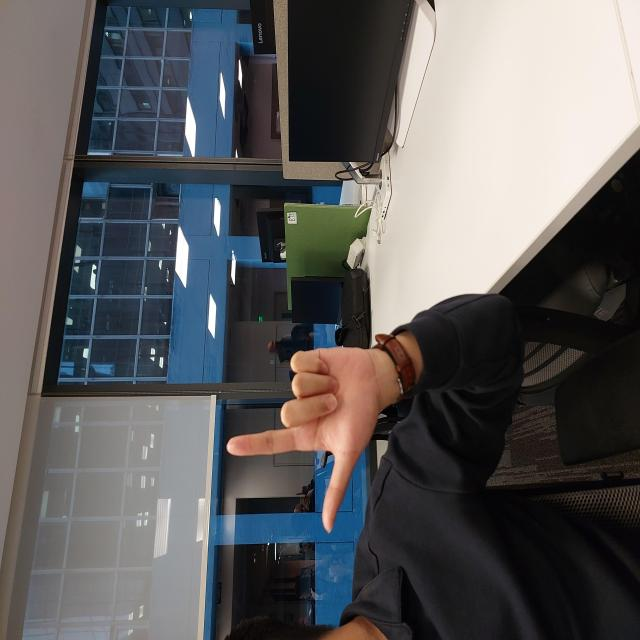L: (106, 227, 294, 378)
